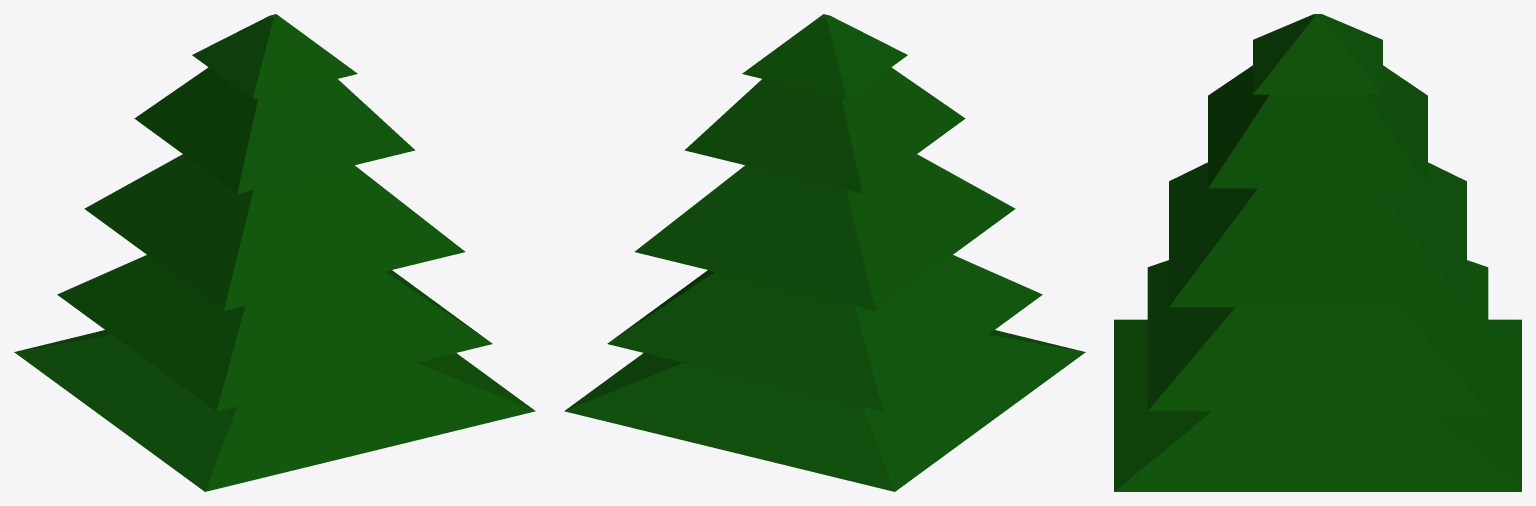
The model's file is tree.obj.
The picture shows the model from 3 angles, left to right: view 1: azimuth 30°, elevation 25°; view 2: azimuth 150°, elevation 25°; view 3: azimuth 270°, elevation 25°; orthographic projection. The views are drawn at different scales.
Visible parts, largest first — view 1: Cube_Cube.002; view 2: Cube_Cube.002; view 3: Cube_Cube.002.
Boxes of the visible parts, bbox=[...] form: Cube_Cube.002: bbox=[14, 14, 535, 491]; Cube_Cube.002: bbox=[564, 14, 1085, 491]; Cube_Cube.002: bbox=[1114, 14, 1521, 491].
Bounding box in the file's own units: 11.1 × 11.71 × 11.1.
